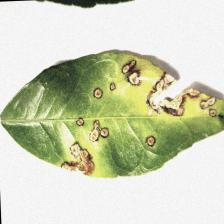canker: (57, 58, 222, 174)
